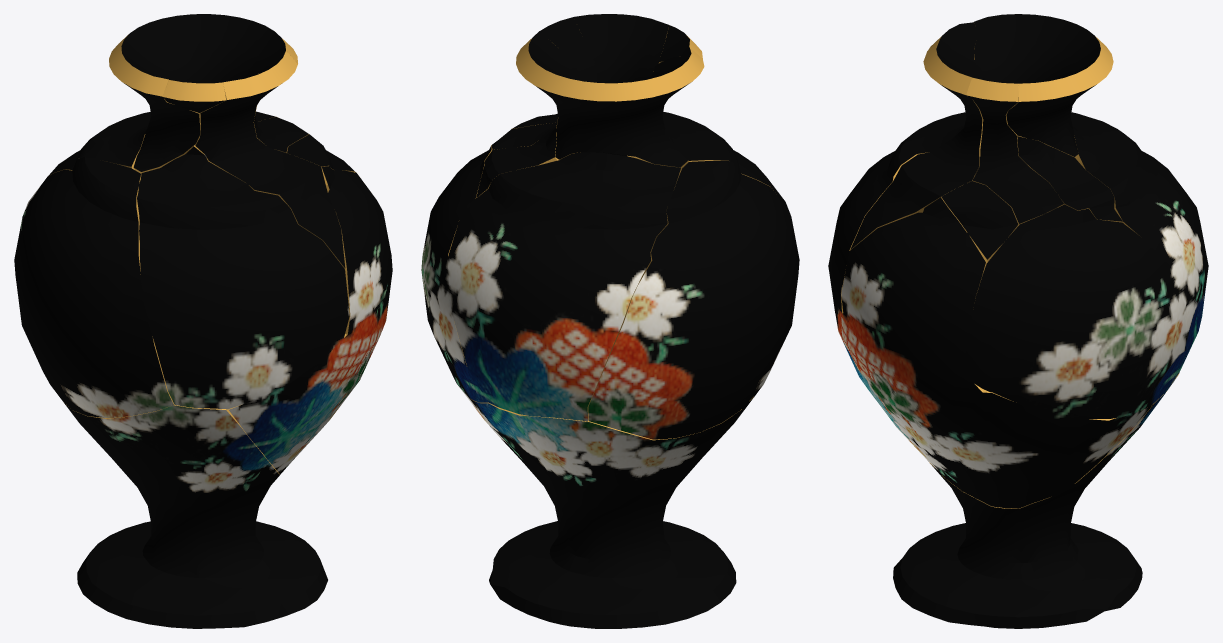
The model's file is TheVase.fbx.
3 views of the same model, side by side, from view 1: azimuth 30°, elevation 25°; view 2: azimuth 150°, elevation 25°; view 3: azimuth 270°, elevation 25° (orthographic).
Parts seen in each view (by area): view 1: Japanese Vase_cell.004, Japanese Vase_cell.005, Japanese Vase_cell.001, Japanese Vase_cell.009, Japanese Vase_cell.014, Japanese Vase_cell.003, Japanese Vase_cell.012, Japanese Vase_cell.008, Japanese Vase_cell.013, Japanese Vase_cell.015, Japanese Vase_cell.007; view 2: Japanese Vase_cell.008, Japanese Vase_cell.001, Japanese Vase_cell.005, Japanese Vase_cell.009, Japanese Vase_cell.002, Japanese Vase_cell.014, Japanese Vase_cell.004, Japanese Vase_cell.013, Japanese Vase_cell.011, Japanese Vase_cell.015; view 3: Japanese Vase_cell.002, Japanese Vase_cell.005, Japanese Vase_cell.003, Japanese Vase_cell.012, Japanese Vase_cell.009, Japanese Vase_cell.008, Japanese Vase_cell.014, Japanese Vase_cell.013, Japanese Vase_cell.004, Japanese Vase_cell.011, Japanese Vase_cell.007, Japanese Vase_cell.015.
Boxes of the visible parts, box(x1,y1,x2,y2) form: Japanese Vase_cell.004: box(137, 145, 349, 409); Japanese Vase_cell.005: box(64, 403, 327, 628); Japanese Vase_cell.001: box(14, 157, 173, 417); Japanese Vase_cell.009: box(109, 14, 274, 173); Japanese Vase_cell.014: box(195, 50, 345, 268); Japanese Vase_cell.003: box(228, 302, 388, 474); Japanese Vase_cell.012: box(321, 166, 392, 334); Japanese Vase_cell.008: box(48, 112, 206, 176); Japanese Vase_cell.013: box(245, 31, 309, 152); Japanese Vase_cell.015: box(162, 80, 225, 112); Japanese Vase_cell.007: box(287, 134, 353, 172); Japanese Vase_cell.008: box(447, 152, 680, 421); Japanese Vase_cell.001: box(588, 160, 799, 439); Japanese Vase_cell.005: box(474, 395, 755, 628); Japanese Vase_cell.009: box(516, 31, 704, 172); Japanese Vase_cell.002: box(421, 145, 492, 402); Japanese Vase_cell.014: box(573, 14, 669, 83); Japanese Vase_cell.004: box(662, 112, 787, 207); Japanese Vase_cell.013: box(492, 17, 598, 149); Japanese Vase_cell.011: box(476, 119, 558, 198); Japanese Vase_cell.015: box(658, 25, 702, 62); Japanese Vase_cell.002: box(964, 204, 1186, 418); Japanese Vase_cell.005: box(893, 373, 1179, 628); Japanese Vase_cell.003: box(835, 313, 1154, 508); Japanese Vase_cell.012: box(841, 197, 986, 376); Japanese Vase_cell.009: box(974, 14, 1113, 157); Japanese Vase_cell.008: box(1070, 113, 1208, 378); Japanese Vase_cell.014: box(850, 39, 985, 250); Japanese Vase_cell.013: box(966, 77, 1063, 225); Japanese Vase_cell.004: box(828, 112, 966, 314); Japanese Vase_cell.011: box(1017, 135, 1122, 222); Japanese Vase_cell.007: box(941, 181, 1018, 262); Japanese Vase_cell.015: box(928, 22, 979, 59).
Size of the model in its own units: 20 by 30.77 by 20.
